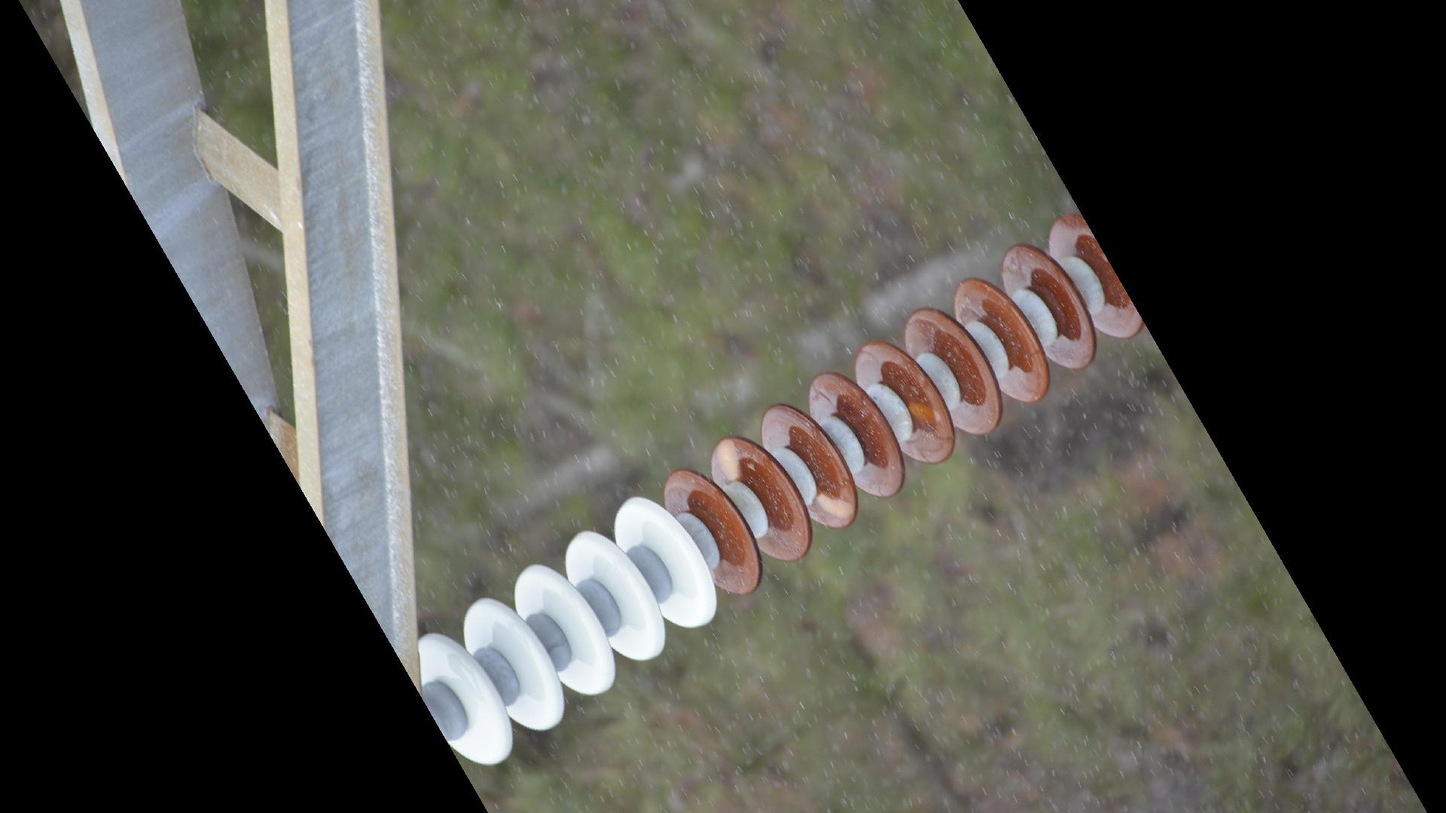insulator: (411, 206, 1149, 773)
insulator_flashover: (714, 435, 742, 483), (815, 490, 856, 521), (905, 397, 943, 426)
